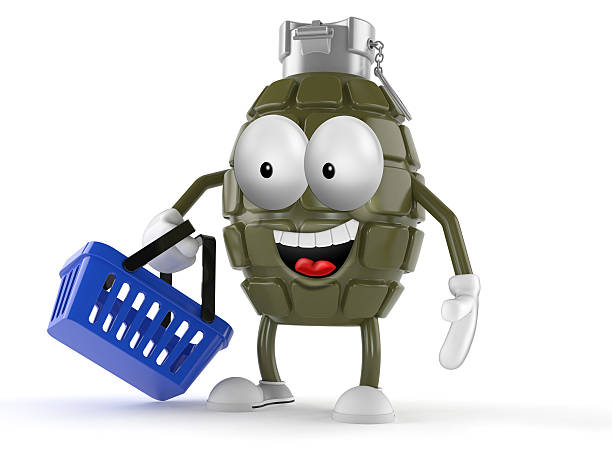e1: (208, 17, 429, 323)
